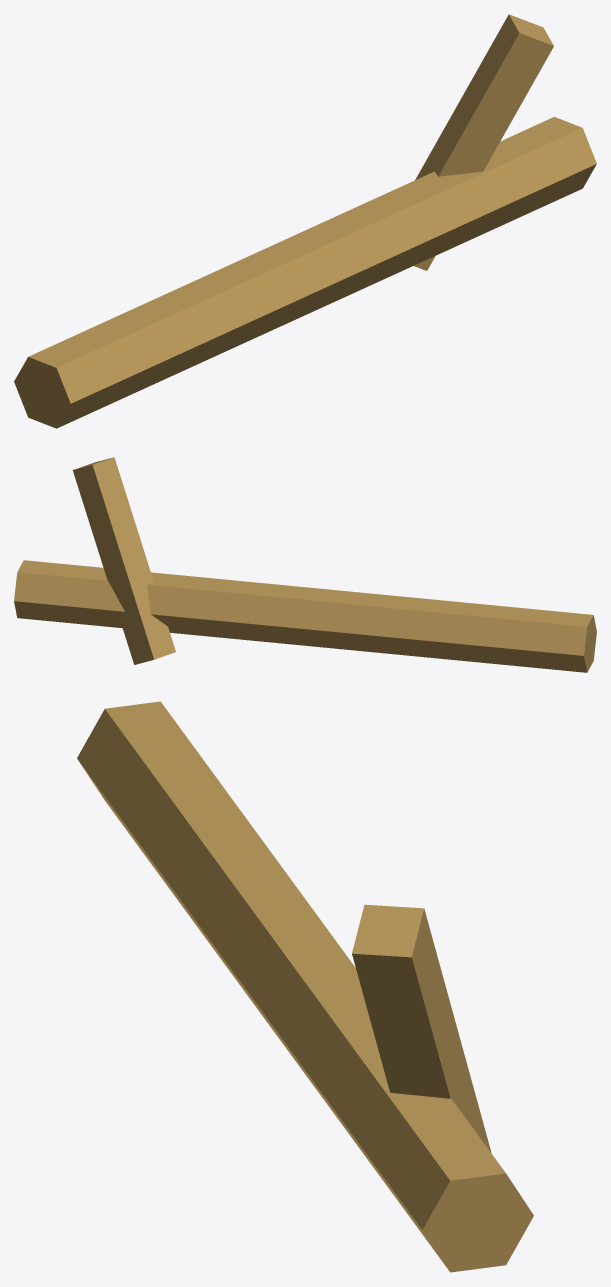
Rendered from stick.dae.
3 views of the same model, one above another, from view 1: azimuth 30°, elevation 25°; view 2: azimuth 150°, elevation 25°; view 3: azimuth 270°, elevation 25° (orthographic). The views are drawn at different scales.
Visible parts, largest first — view 1: Cylinder, Cylinder.001; view 2: Cylinder, Cylinder.001; view 3: Cylinder, Cylinder.001.
Part boxes in pixels (x1,y1,x2,y2): Cylinder: (14,117,596,428); Cylinder.001: (414,14,553,270); Cylinder: (14,560,596,672); Cylinder.001: (72,457,175,664); Cylinder: (77,701,533,1272); Cylinder.001: (352,904,491,1152).
Size of the model in its own units: 39.4 by 15.64 by 13.44.
